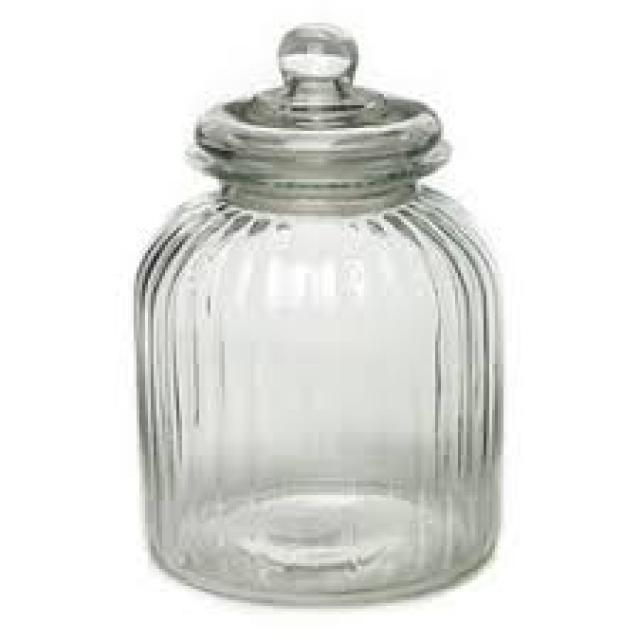Dry Waste: (128, 15, 510, 608)
